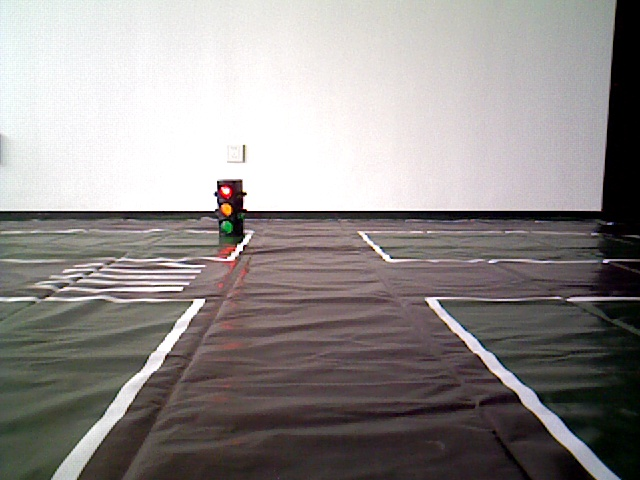red: (216, 182, 242, 238)
